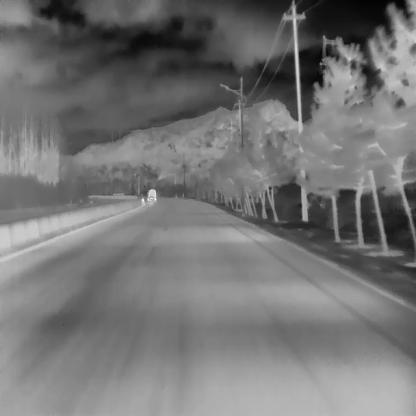car: (146, 188, 156, 200)
